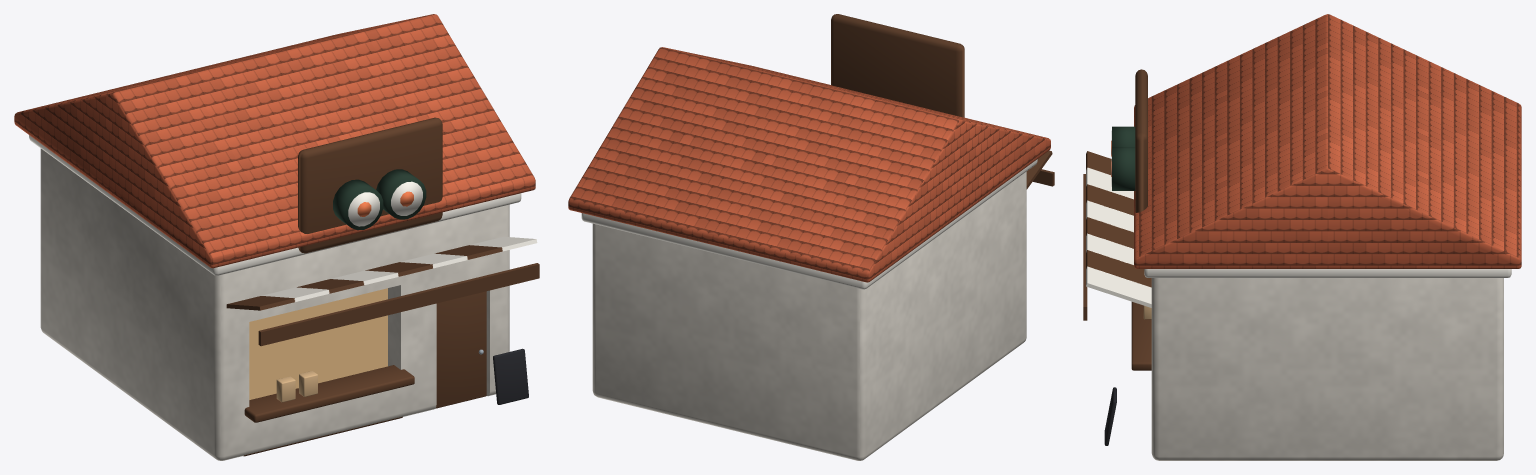
File: restaurant_sushi.gltf
3 renders of one model, left to right at view 1: azimuth 30°, elevation 25°; view 2: azimuth 150°, elevation 25°; view 3: azimuth 270°, elevation 25°, orthographic. The views are drawn at different scales.
Parts seen in each view (by area): view 1: restaurant_sushi_mesh, INT_door_restaurant_sushi, INT_counter_sushi; view 2: restaurant_sushi_mesh; view 3: restaurant_sushi_mesh, INT_counter_sushi.
Part boxes in pixels (x1=…): restaurant_sushi_mesh: x1=14, y1=14, x2=539, y2=460; INT_door_restaurant_sushi: x1=435, y1=291, x2=486, y2=408; INT_counter_sushi: x1=244, y1=365, x2=414, y2=422; restaurant_sushi_mesh: x1=568, y1=14, x2=1054, y2=460; restaurant_sushi_mesh: x1=1083, y1=14, x2=1521, y2=460; INT_counter_sushi: x1=1131, y1=302, x2=1151, y2=370.
Size of what is drawn, in the model's own units: 7.3 by 6.64 by 8.71.
Materials: 14 (2 with a texture image).
